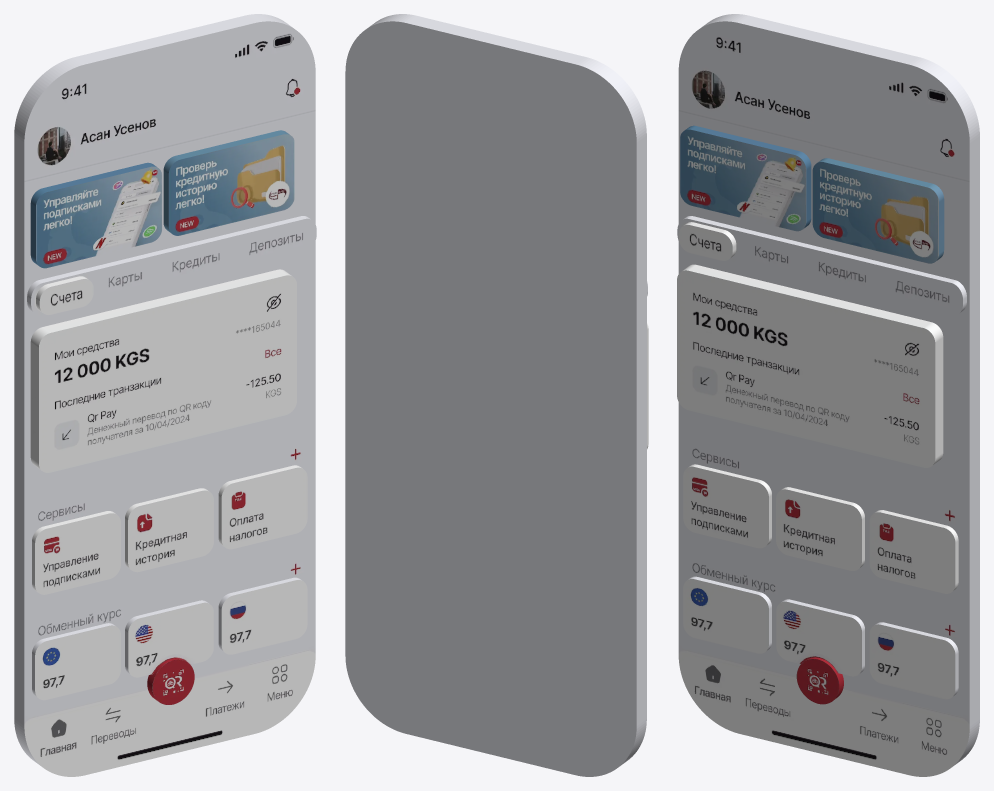
File: Phone.glb
3 views of the same model, side by side, from view 1: azimuth 30°, elevation 25°; view 2: azimuth 150°, elevation 25°; view 3: azimuth 330°, elevation 25° (orthographic).
Visible parts, largest first — view 1: Cube.049; view 2: Cube.049; view 3: Cube.049.
Boxes of the visible parts, x1,y1,x2,y2 form: Cube.049: (14, 14, 316, 776); Cube.049: (345, 14, 648, 776); Cube.049: (677, 14, 979, 776).
Size of the model in its own units: 0.0987 by 0.2301 by 0.0107.
Materials: 3 (3 with a texture image).
